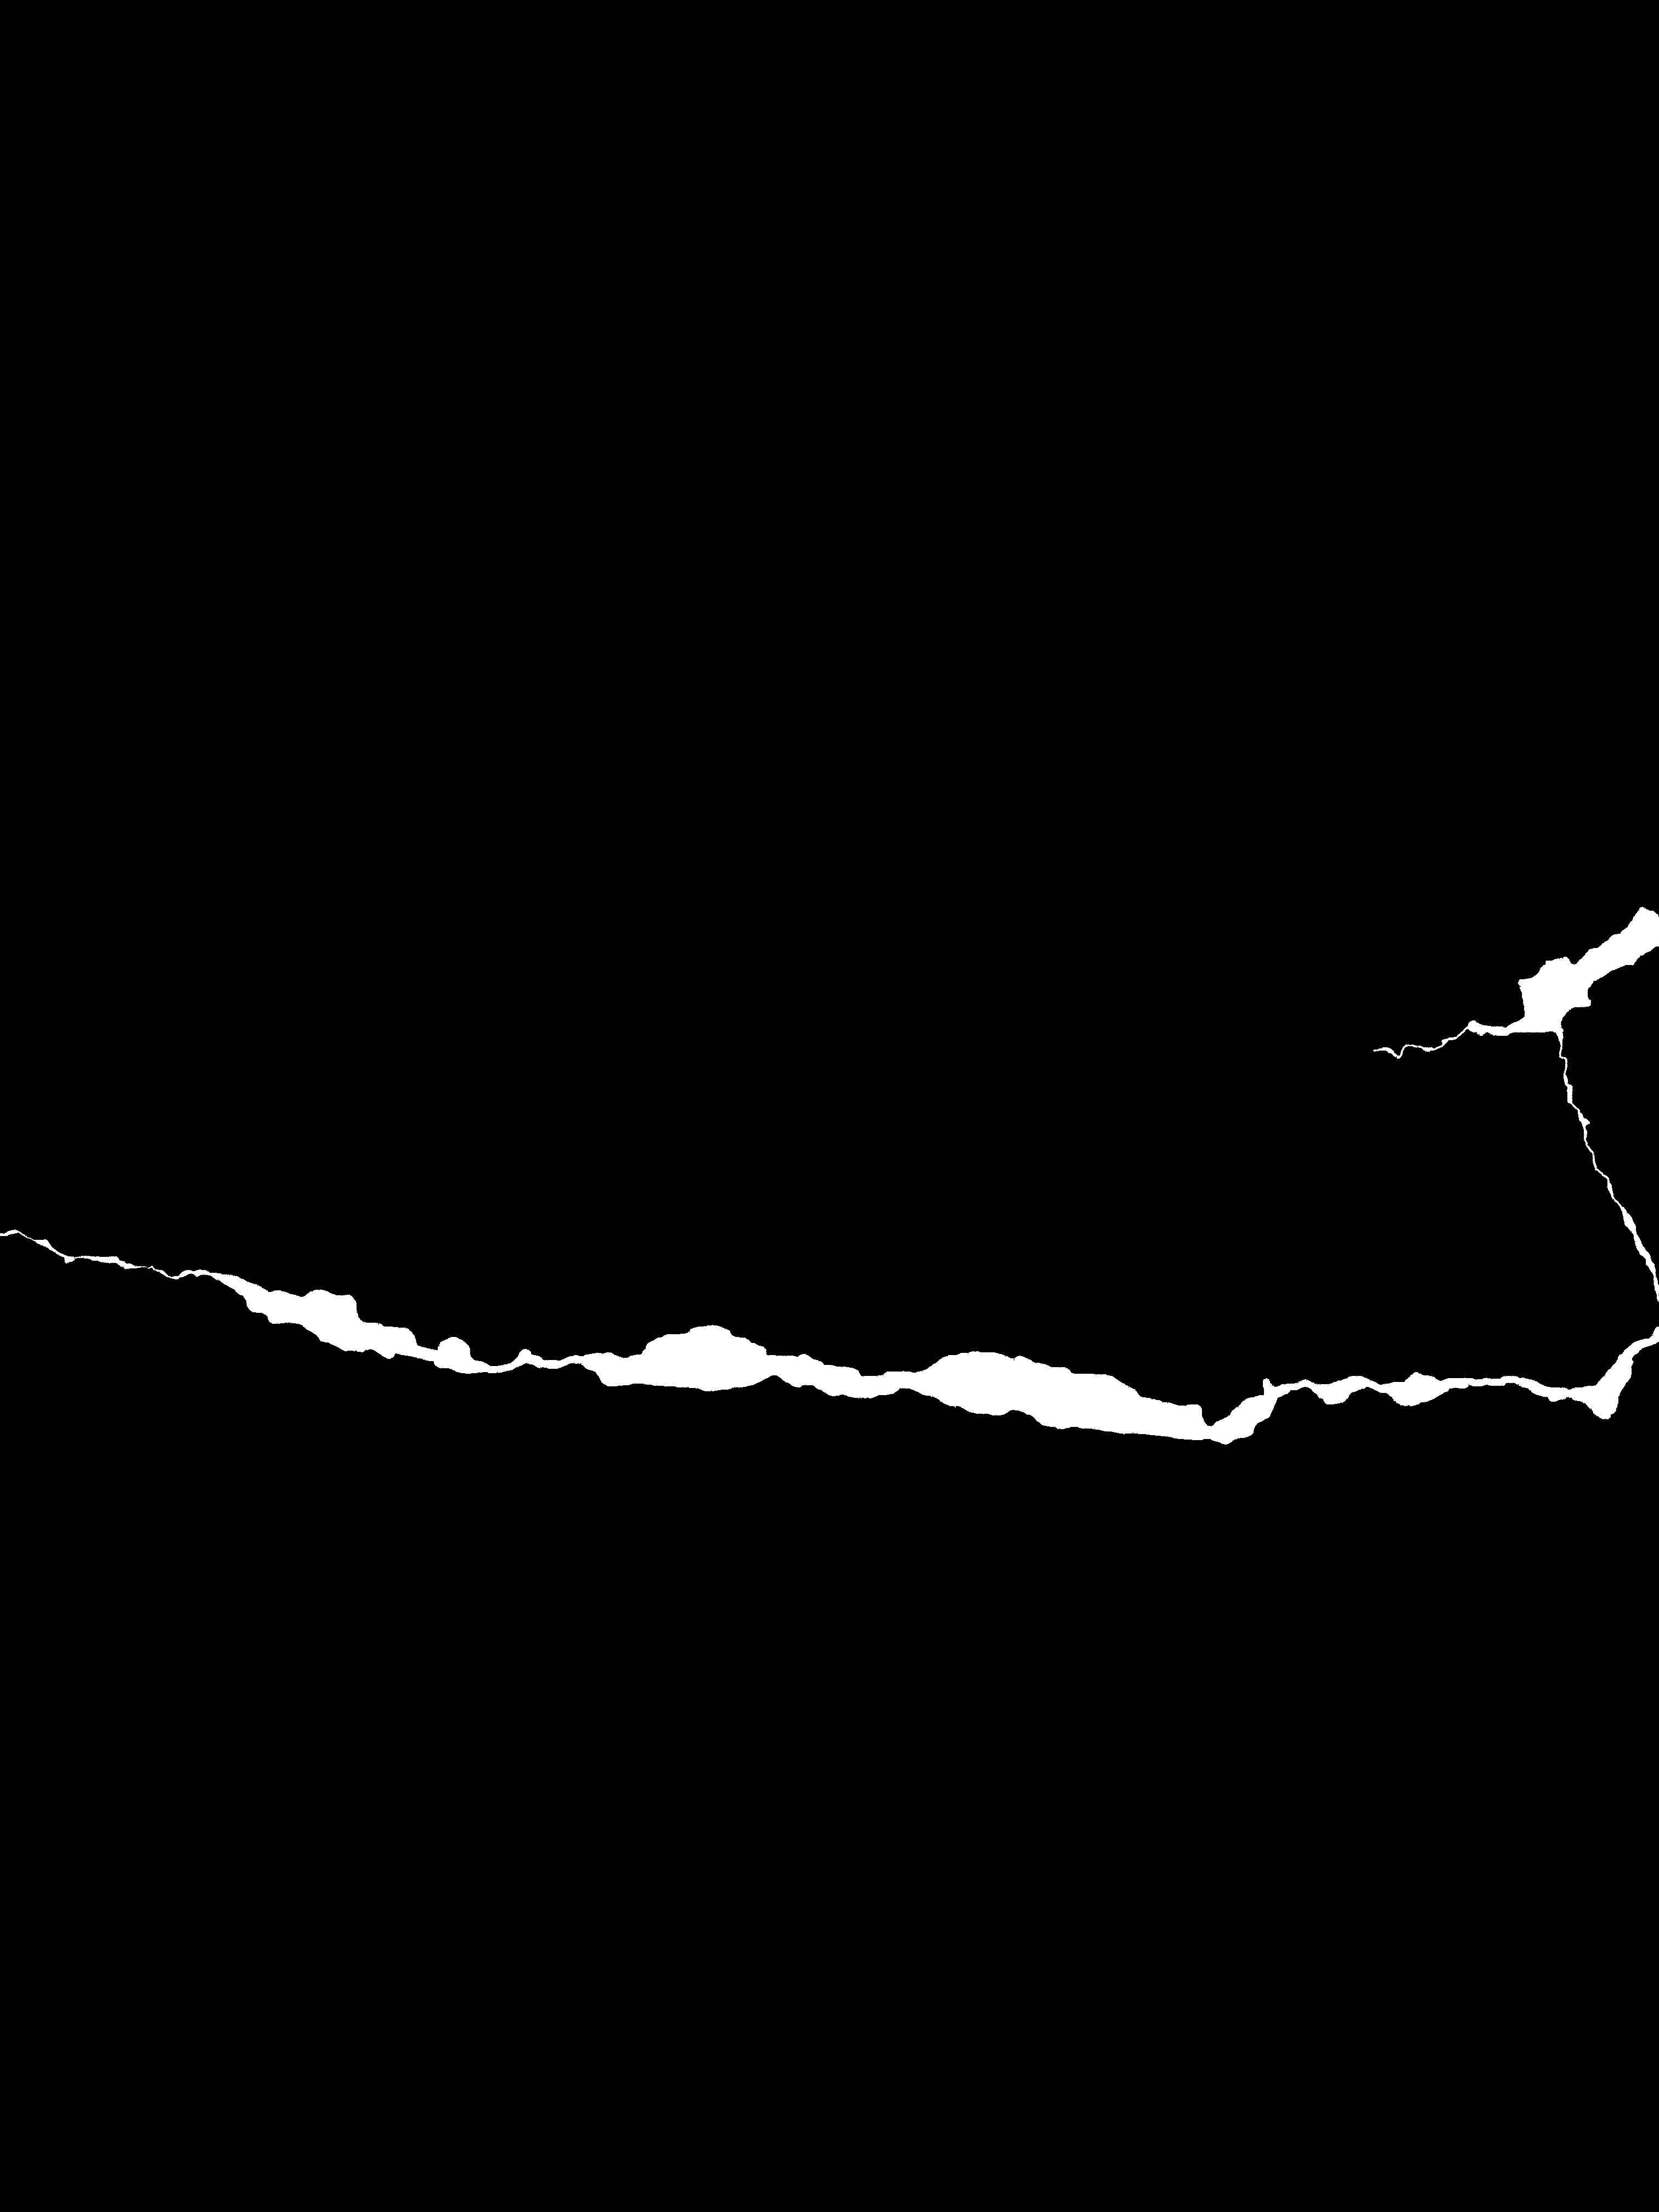Crack: (0, 900, 1659, 1465)
